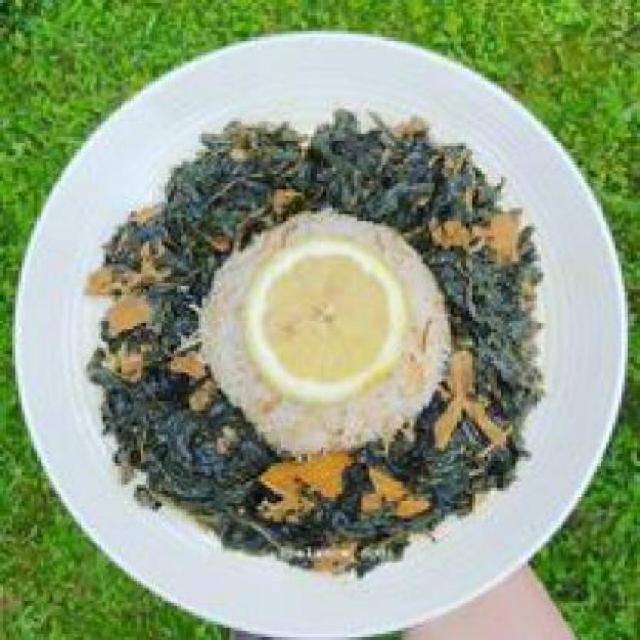fried rice: (204, 217, 438, 435)
molokhia: (96, 96, 547, 572)
